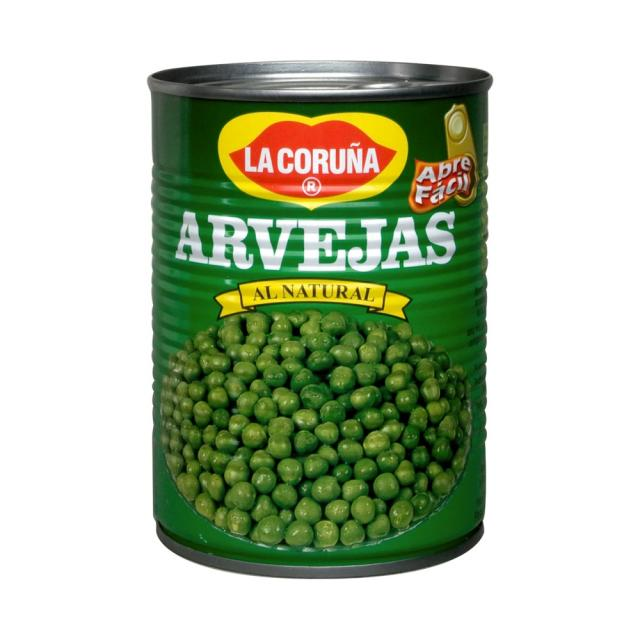arvejas: (157, 311, 472, 534)
